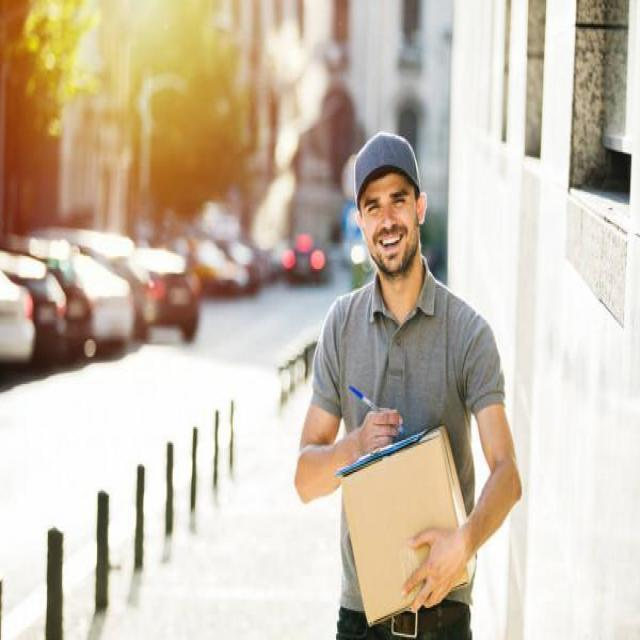box: (346, 426, 474, 628)
